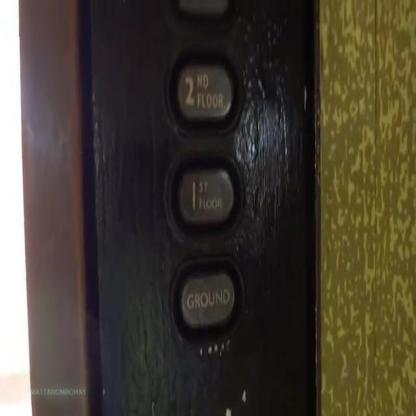1: (162, 146, 245, 242)
2: (164, 42, 245, 140)
text: (166, 252, 248, 348)
